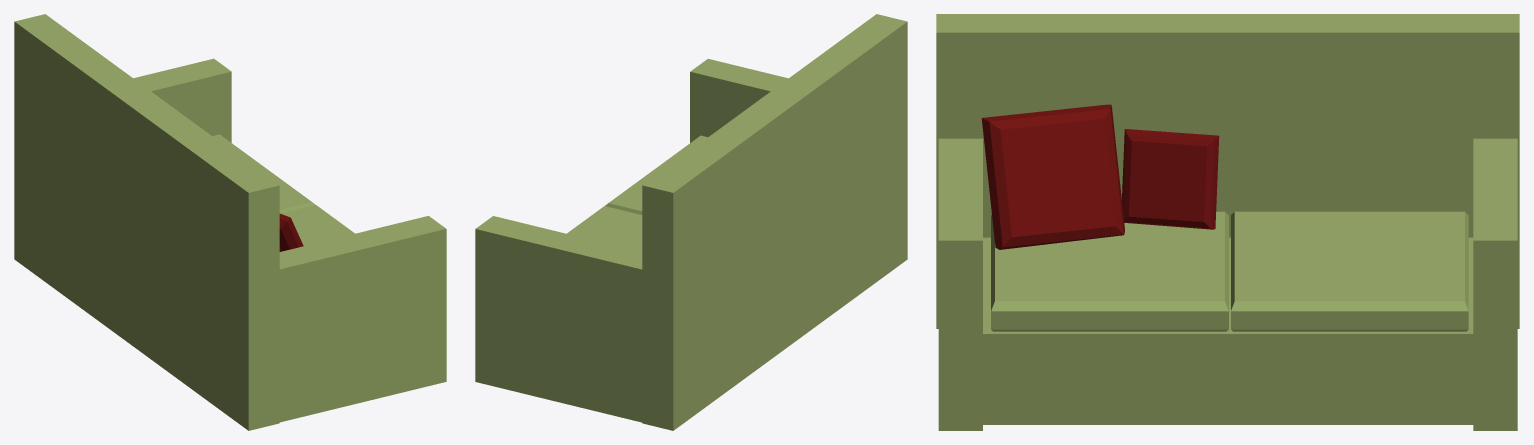
File: Couchoderwasauchimmer.fbx
3 renders of one model, left to right at view 1: azimuth 30°, elevation 25°; view 2: azimuth 150°, elevation 25°; view 3: azimuth 270°, elevation 25°, orthographic. The views are drawn at different scales.
Parts seen in each view (by area): view 1: Cube.003; view 2: Cube.003; view 3: Cube.003.
Boxes of the visible parts, left/top/right/bottom form: Cube.003: left=14, top=14, right=446, bottom=430; Cube.003: left=475, top=14, right=907, bottom=430; Cube.003: left=936, top=14, right=1519, bottom=430.
Bounding box in the file's own units: 118 × 135 × 240.
